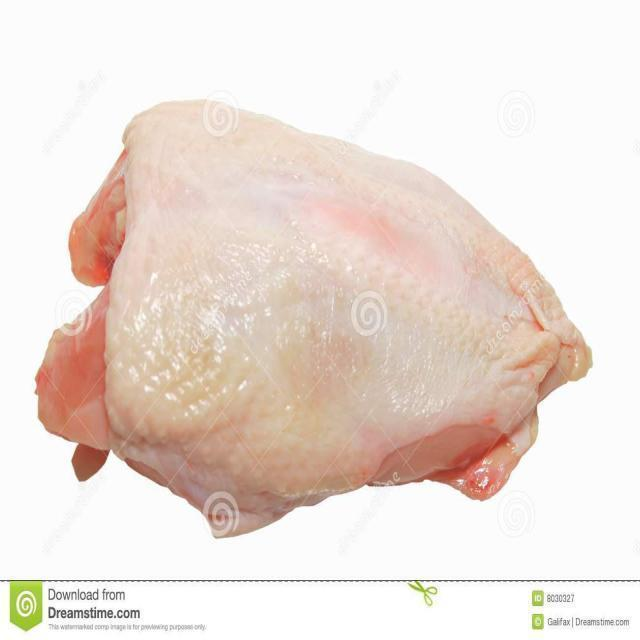chicken: (36, 101, 594, 539)
